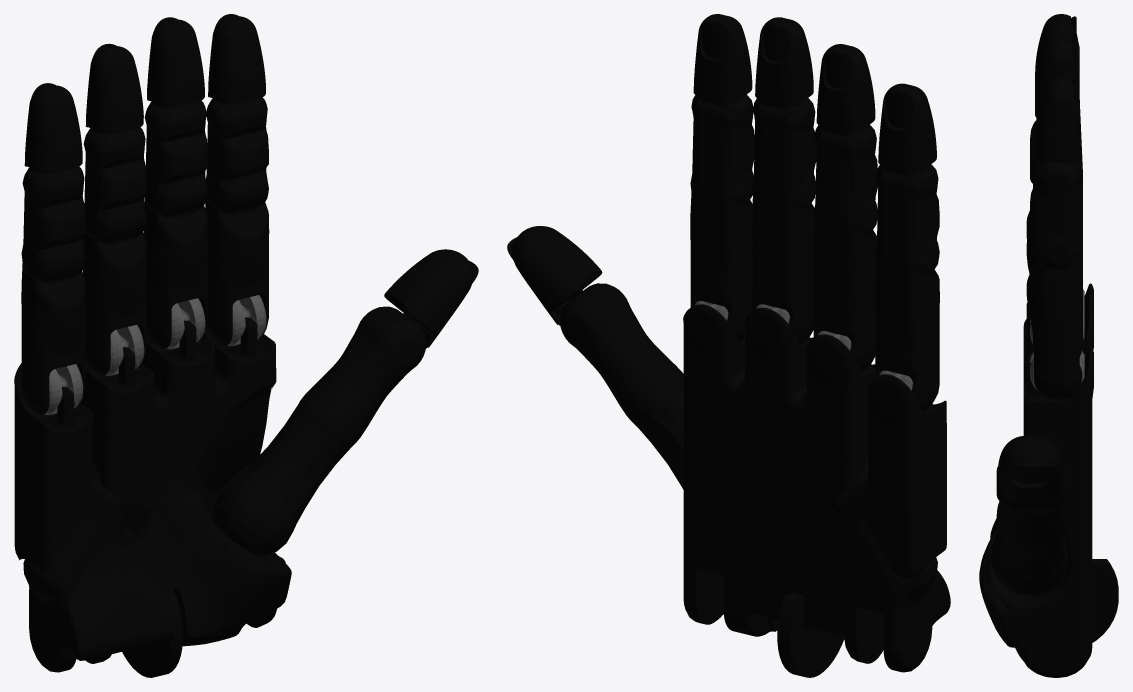
Rendered from shadow_hand_right_original.glb.
3 views of the same model, side by side, from view 1: azimuth 30°, elevation 25°; view 2: azimuth 150°, elevation 25°; view 3: azimuth 270°, elevation 25° (orthographic). The views are drawn at different scales.
Visible parts, largest first — view 1: world; view 2: world; view 3: world.
Part boxes in pixels (left/top/right/bottom): world: left=14, top=14, right=478, bottom=677; world: left=507, top=14, right=950, bottom=677; world: left=979, top=14, right=1118, bottom=677.
Size of the model in its own units: 0.1564 by 0.2205 by 0.0447.
1 material, 1 textured.
